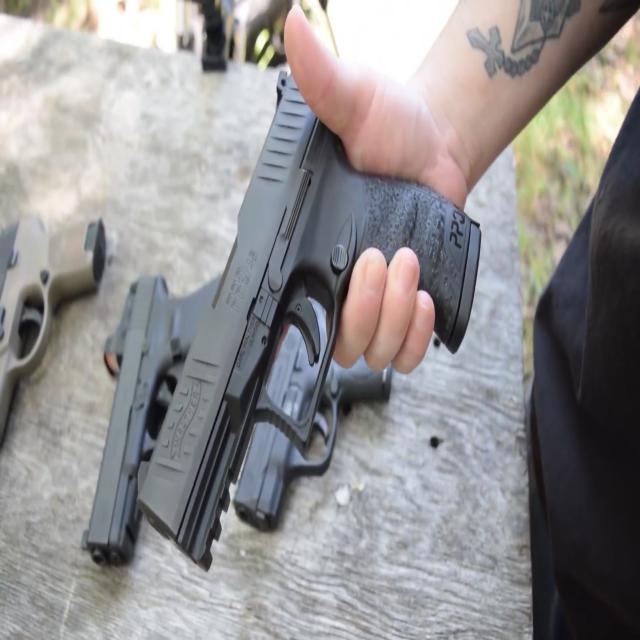handgun: (157, 115, 507, 530), (75, 236, 260, 538), (228, 282, 404, 550), (0, 156, 120, 430)
